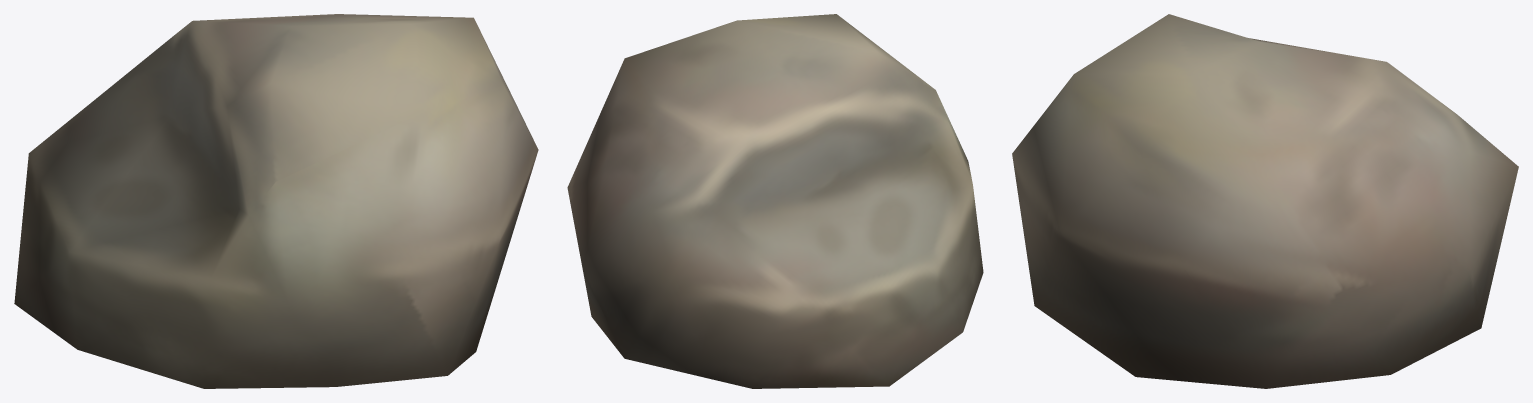
Rendered from Stone 1.fbx.
The picture shows the model from 3 angles, left to right: view 1: azimuth 30°, elevation 25°; view 2: azimuth 150°, elevation 25°; view 3: azimuth 270°, elevation 25°; orthographic projection. The views are drawn at different scales.
Visible parts, largest first — view 1: Icosphere; view 2: Icosphere; view 3: Icosphere.
Part boxes in pixels (x1=…): Icosphere: x1=14, y1=14, x2=538, y2=388; Icosphere: x1=567, y1=14, x2=983, y2=388; Icosphere: x1=1012, y1=14, x2=1518, y2=388.
Bounding box in the file's own units: 176 × 124 × 197.
1 material, 1 textured.
